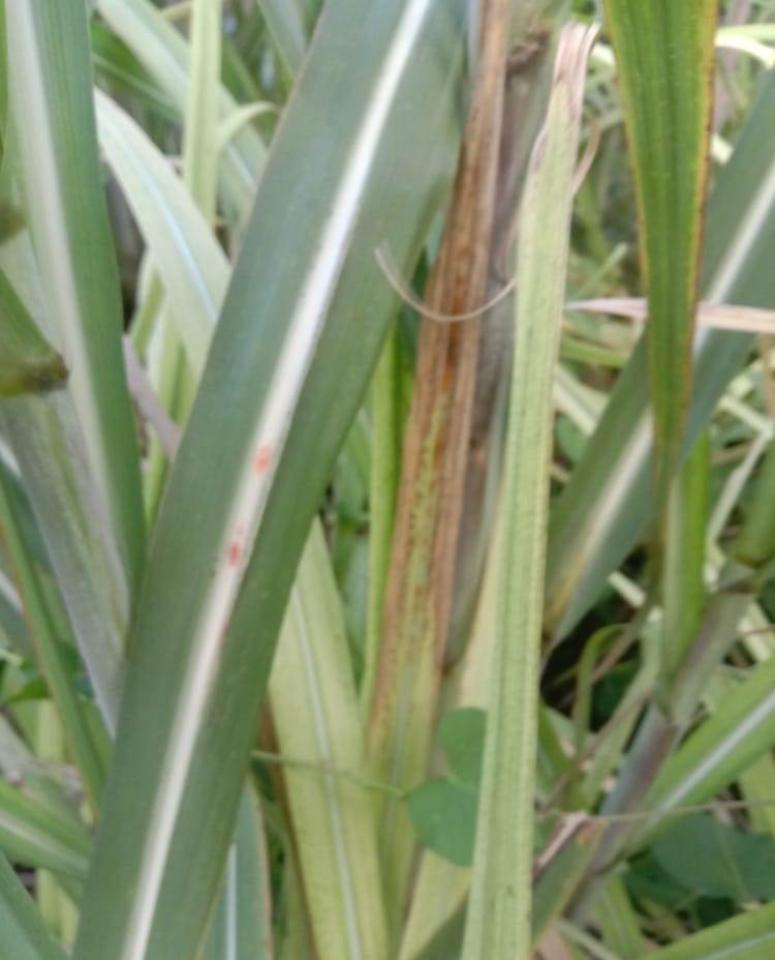RedRot: (228, 523, 247, 567), (253, 444, 273, 475)
